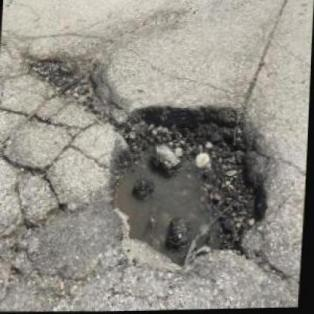Hueco: (101, 98, 279, 270), (22, 52, 117, 121)
